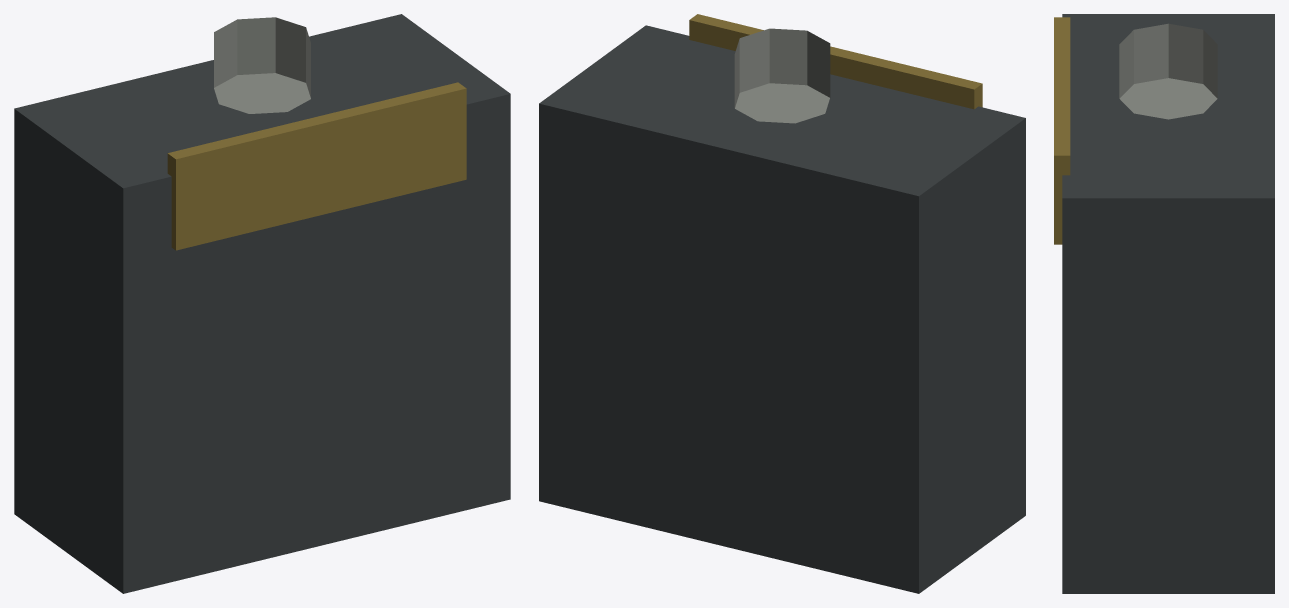
Rendered from elephant_statue.glb.
3 renders of one model, left to right at view 1: azimuth 30°, elevation 25°; view 2: azimuth 150°, elevation 25°; view 3: azimuth 270°, elevation 25°, orthographic. The views are drawn at different scales.
Parts seen in each view (by area): view 1: body; view 2: body; view 3: body.
Boxes of the visible parts, box(x1,y1,x2,y2) form: body: box(14, 14, 510, 593); body: box(539, 14, 1025, 593); body: box(1054, 14, 1274, 593).
Bounding box in the file's own units: 0.48 × 0.555 × 0.243.
1 material, 1 textured.
